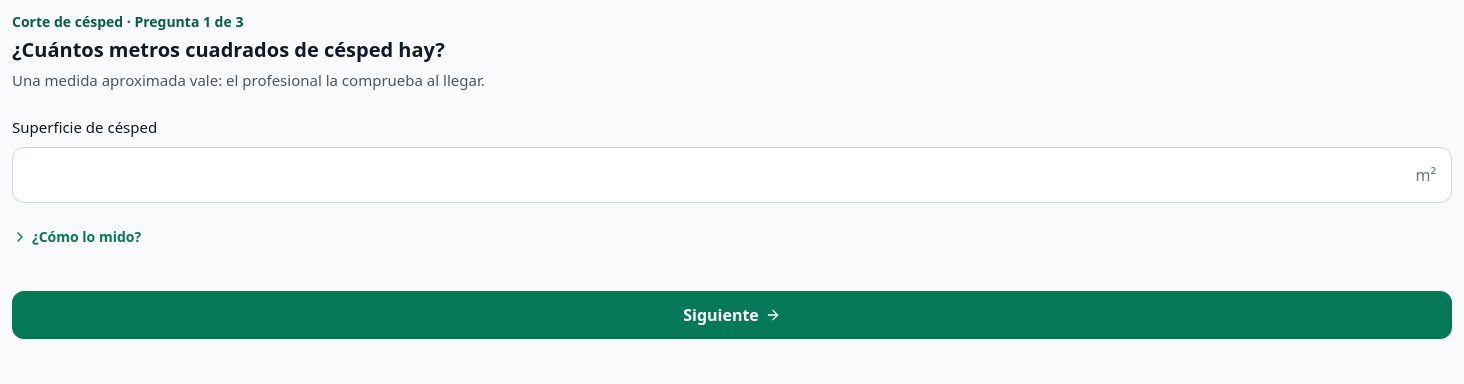
Test: errores (T-07) › «Siguiente» nunca se desactiva; al fallar, error con artículo junto al campo y foco en él
The width and height of the screenshot is (1464, 384).
Click the button "Siguiente" at (732, 314), box x1=12 y1=290 x2=1452 y2=338
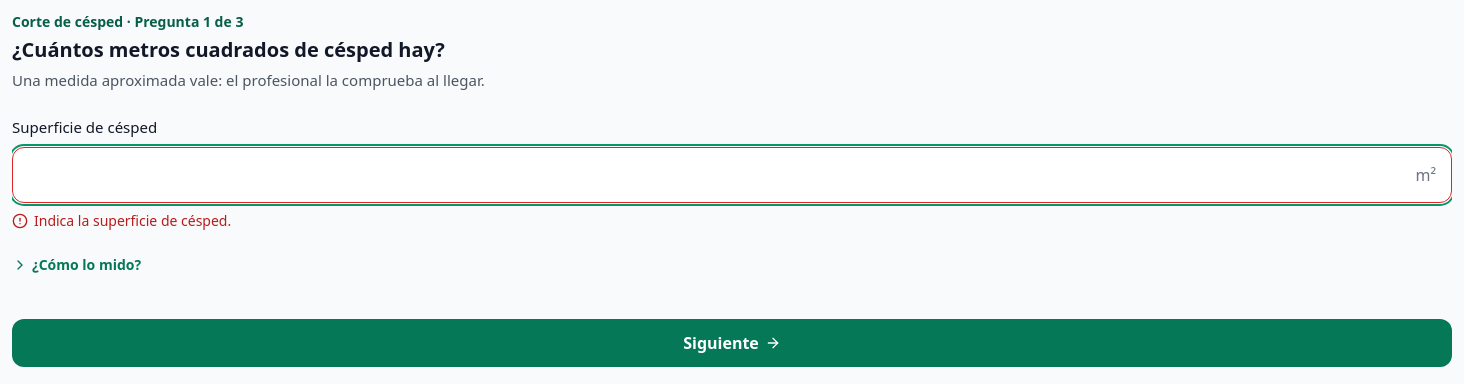
expect the button "Siguiente" is enabled: met, box x1=12 y1=318 x2=1452 y2=366
expect the text "Indica la superficie de césped." is shown: met, box x1=34 y1=210 x2=231 y2=230
